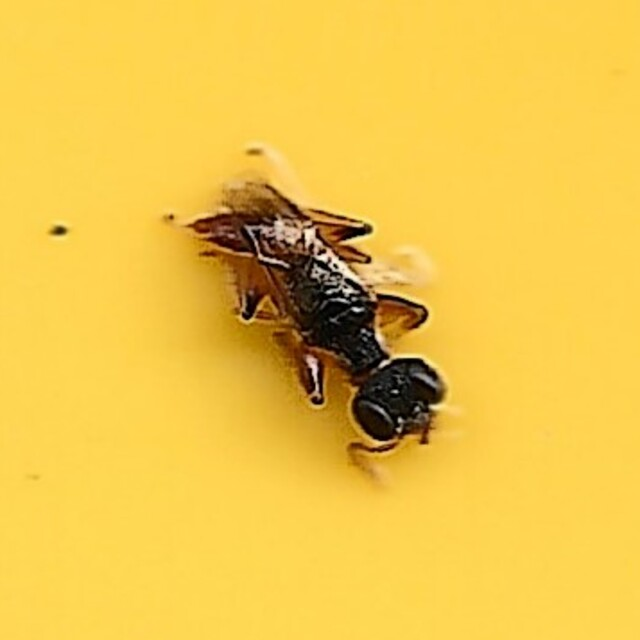Hymenoptera: (179, 166, 461, 474)
